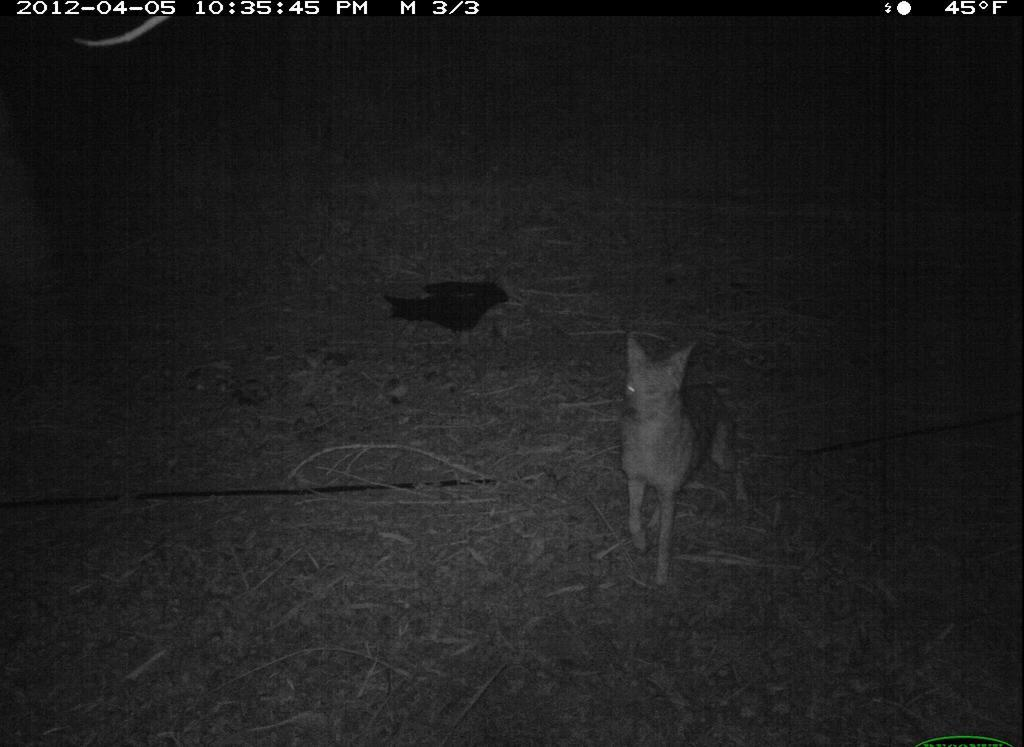coyote: (584, 328, 757, 578)
